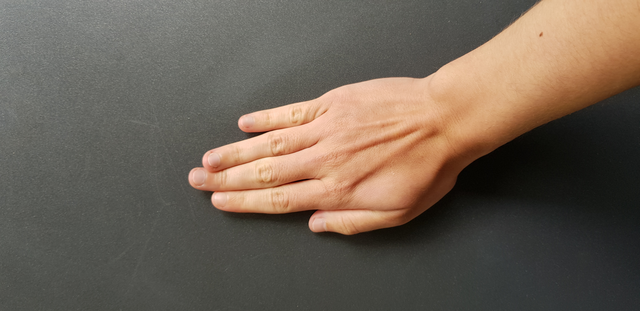Paper: (155, 64, 484, 254)
